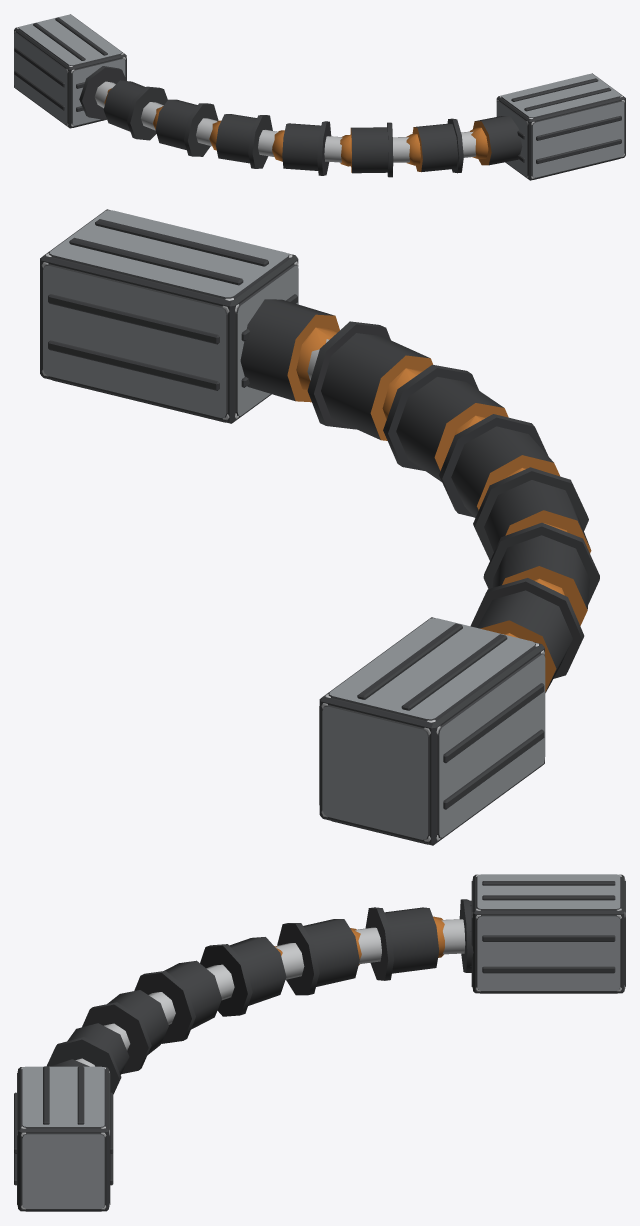
The model's file is R4C_ROD_ARC_LONG.fbx.
3 views of the same model, one above another, from view 1: azimuth 30°, elevation 25°; view 2: azimuth 150°, elevation 25°; view 3: azimuth 270°, elevation 25° (orthographic). The views are drawn at different scales.
Parts seen in each view (by area): view 1: R4C_ROD_ARC_LONG; view 2: R4C_ROD_ARC_LONG; view 3: R4C_ROD_ARC_LONG.
Part boxes in pixels (<box>): R4C_ROD_ARC_LONG: <box>14,14,625,180</box>; R4C_ROD_ARC_LONG: <box>40,209,599,845</box>; R4C_ROD_ARC_LONG: <box>14,874,625,1211</box>.
Size of the model in its own units: 1.48 by 0.233 by 1.48.
